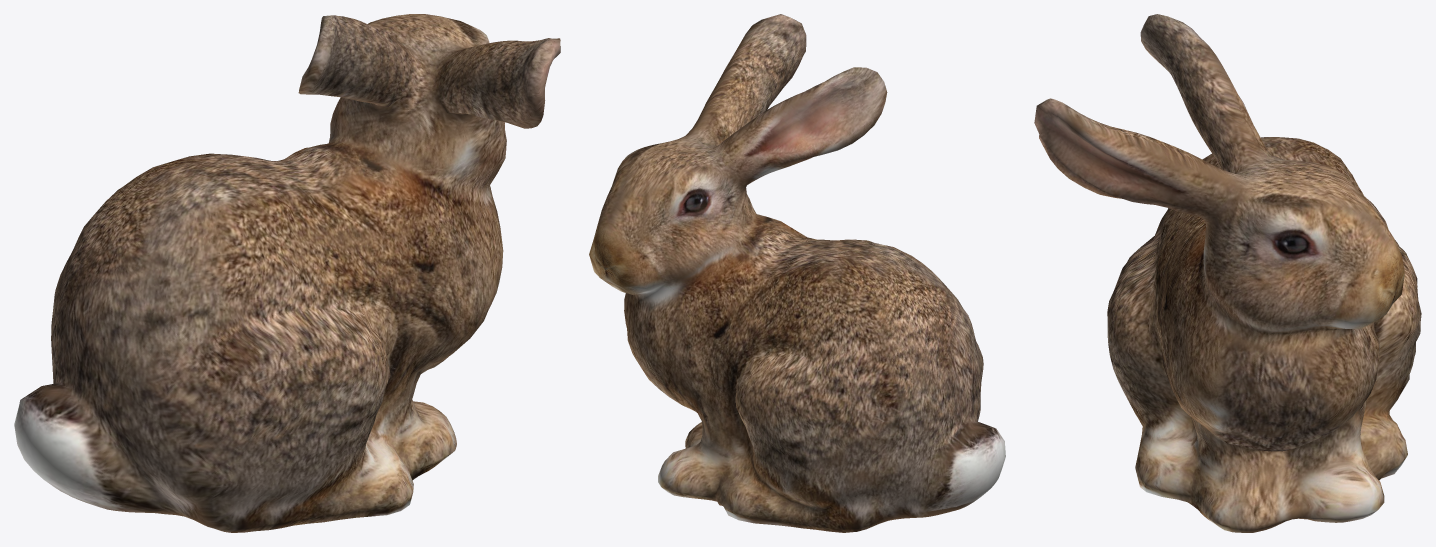
The model's file is liebre.fbx.
3 renders of one model, left to right at view 1: azimuth 30°, elevation 25°; view 2: azimuth 150°, elevation 25°; view 3: azimuth 270°, elevation 25°, orthographic. The views are drawn at different scales.
Parts seen in each view (by area): view 1: Liebre_LOD0; view 2: Liebre_LOD0; view 3: Liebre_LOD0.
Boxes of the visible parts, bbox=[...] form: Liebre_LOD0: bbox=[14, 14, 560, 532]; Liebre_LOD0: bbox=[589, 14, 1005, 532]; Liebre_LOD0: bbox=[1034, 14, 1421, 532].
Size of what is drawn, in the model's own units: 0.2713 by 0.2104 by 0.2683.
